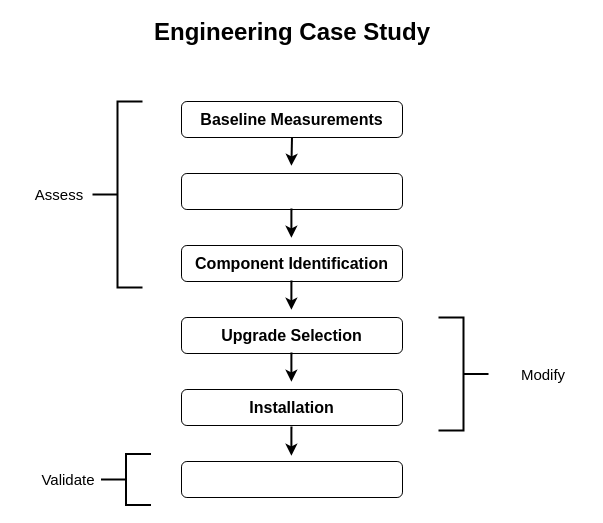
The diagram is 603 pixels wide and 523 high, and some of its shapes have lost their labels. Each missing label, with the centre of its shape:
Physical Inspection: (x=291, y=191)
Post-Upgrade Benchmark: (x=291, y=479)
